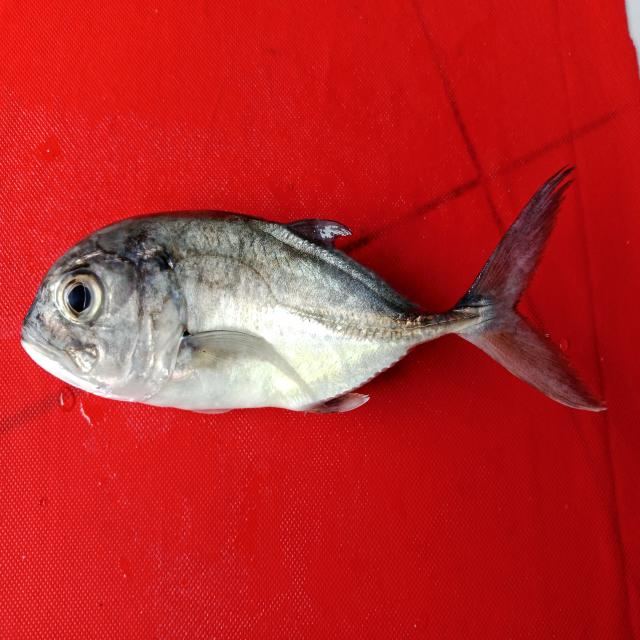ikan: (20, 162, 607, 417)
